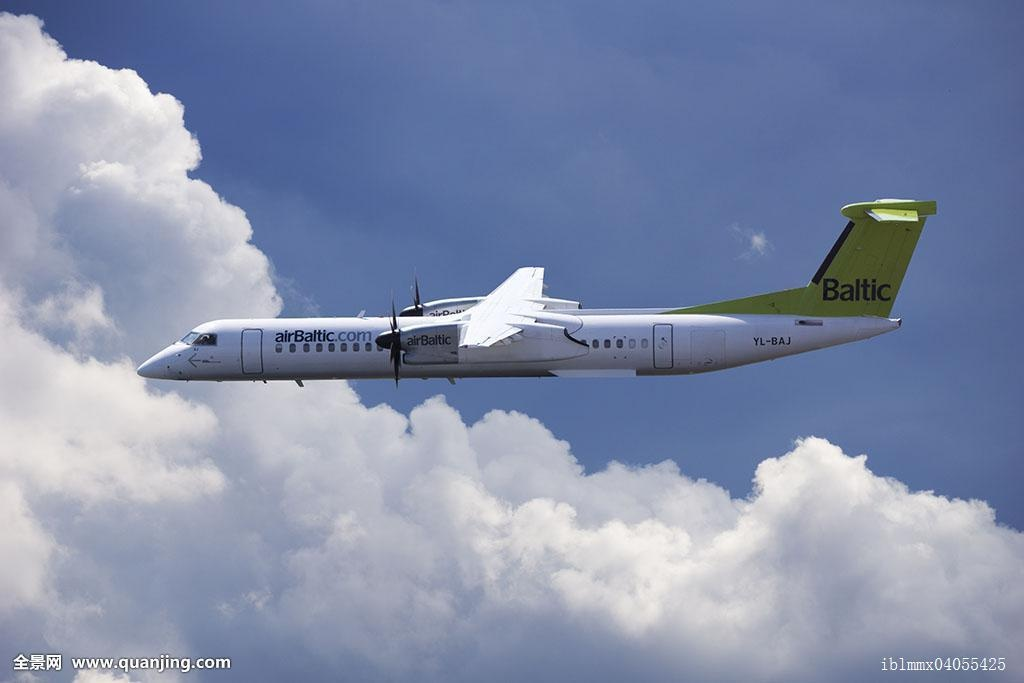airplane: (128, 191, 955, 405)
